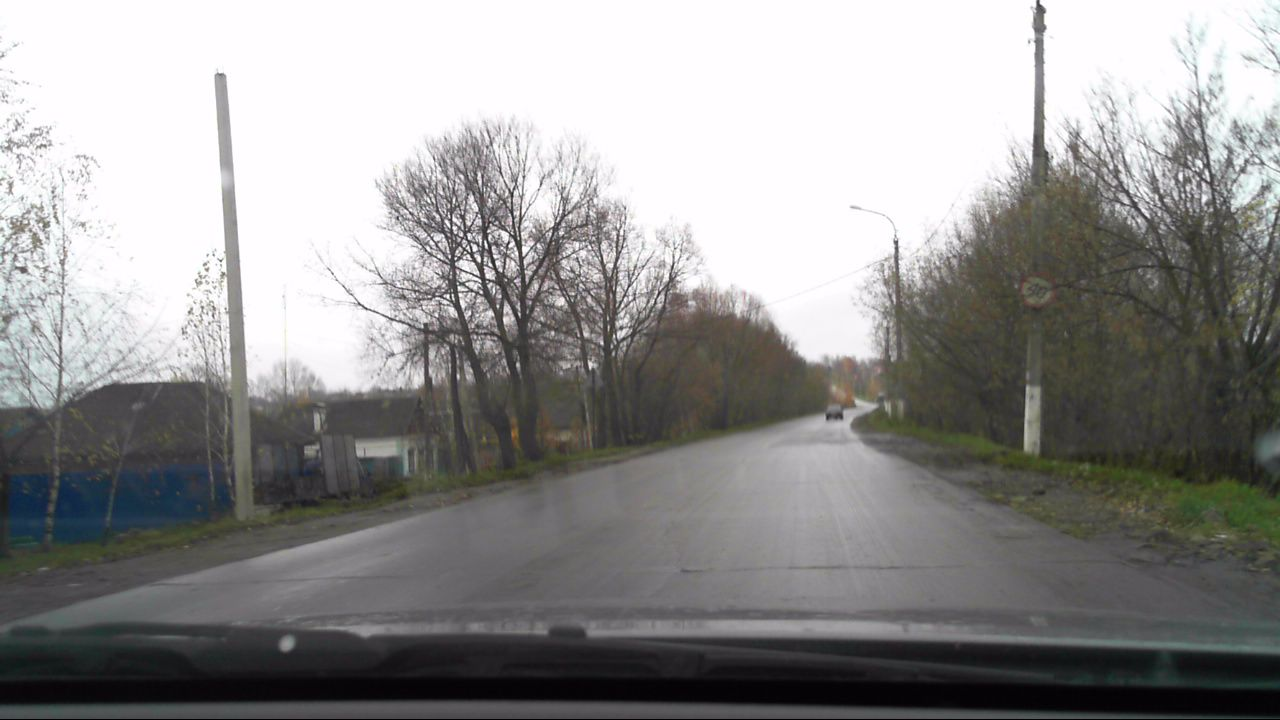speed_warning_40: (1016, 273, 1053, 310)
